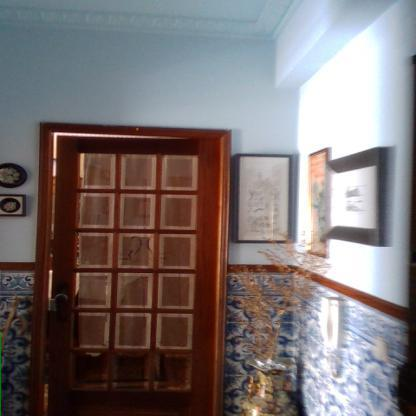door: (54, 136, 216, 414)
knob: (54, 292, 73, 306)
